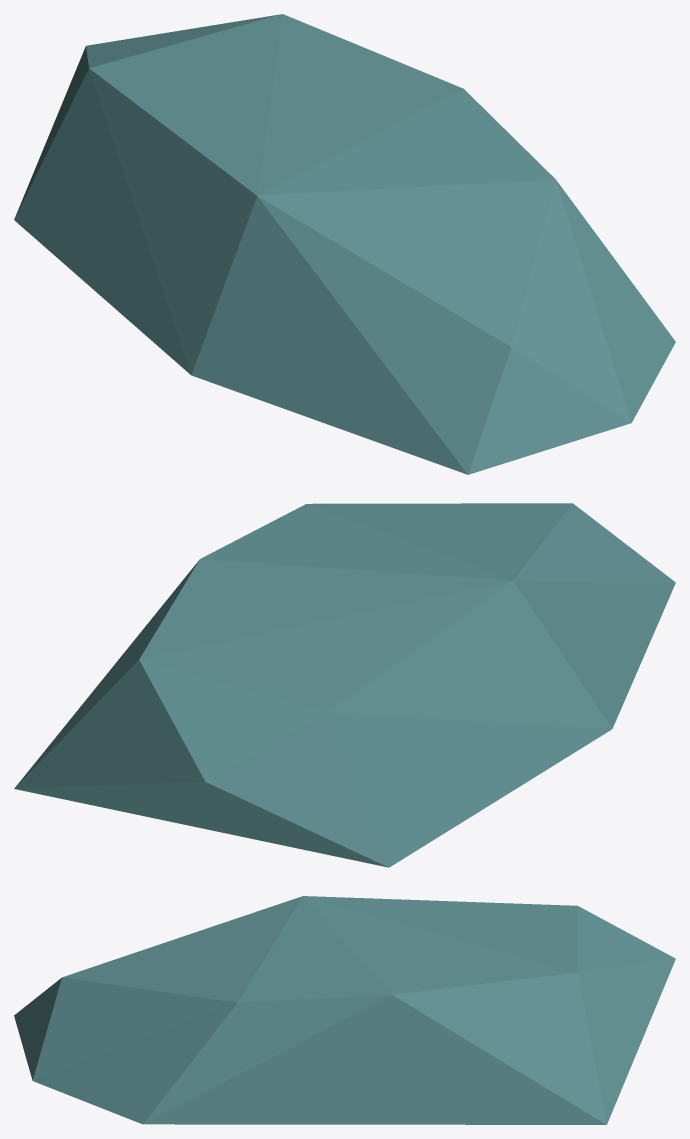
Rendered from Boulder_09_Collider_01.FBX.
3 views of the same model, one above another, from view 1: azimuth 30°, elevation 25°; view 2: azimuth 150°, elevation 25°; view 3: azimuth 270°, elevation 25° (orthographic). The views are drawn at different scales.
Parts seen in each view (by area): view 1: COLLIDER1; view 2: COLLIDER1; view 3: COLLIDER1.
Part boxes in pixels (x1,y1,x2,y2): COLLIDER1: [14, 14, 675, 474]; COLLIDER1: [14, 503, 675, 867]; COLLIDER1: [14, 896, 675, 1124].
Bounding box in the file's own units: 71.09 × 24.83 × 134.
